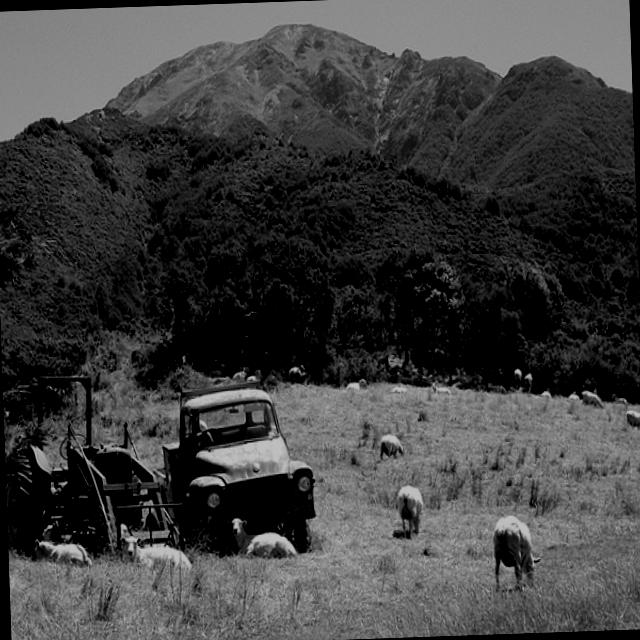Vehicle: (148, 379, 316, 561)
